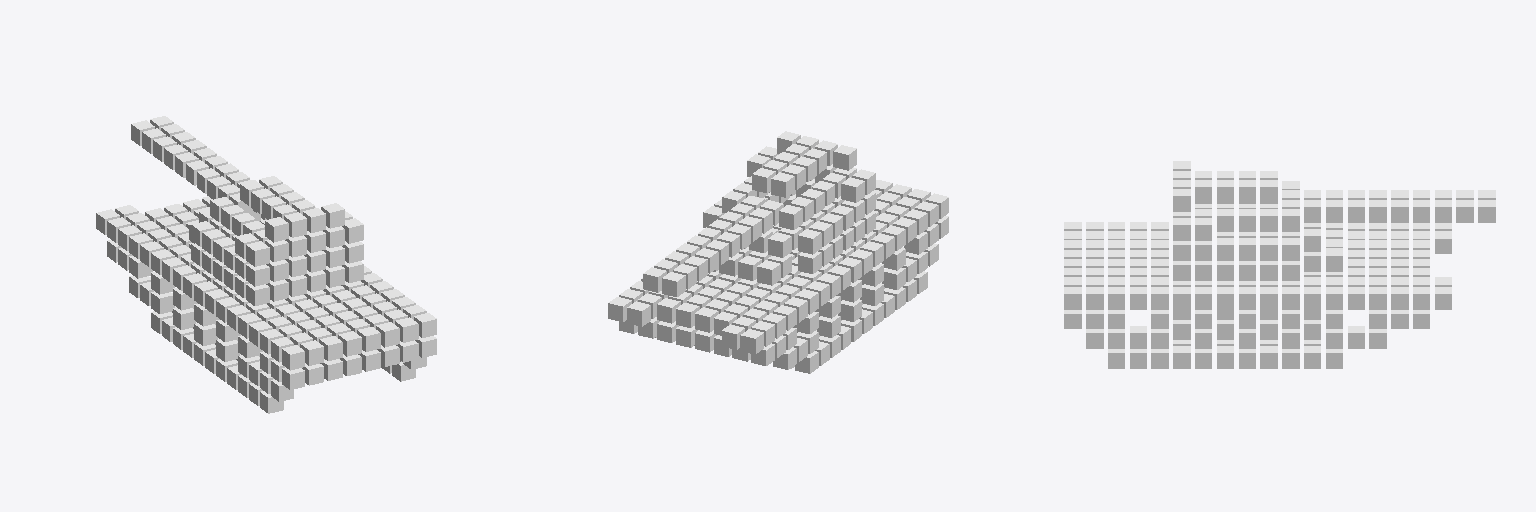
The model's file is tank.cube.obj.
3 views of the same model, side by side, from view 1: azimuth 30°, elevation 25°; view 2: azimuth 150°, elevation 25°; view 3: azimuth 270°, elevation 25° (orthographic).
Bounding box in the file's own units: 7.8 × 7.8 × 19.8.